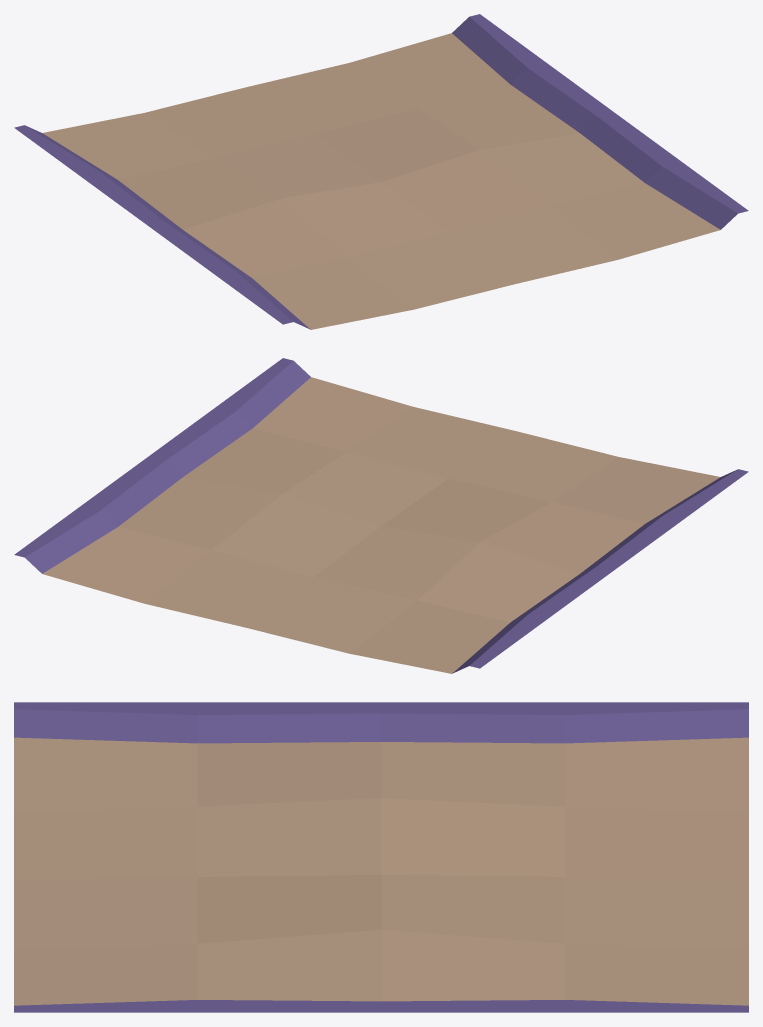
Rendered from env_camino_2x2.fbx.
3 renders of one model, top to bottom at view 1: azimuth 30°, elevation 25°; view 2: azimuth 150°, elevation 25°; view 3: azimuth 270°, elevation 25°, orthographic. The views are drawn at different scales.
Visible parts, largest first — view 1: env_camino_2x2; view 2: env_camino_2x2; view 3: env_camino_2x2.
Boxes of the visible parts, x1=… form: env_camino_2x2: x1=14, y1=14, x2=748, y2=329; env_camino_2x2: x1=14, y1=358, x2=748, y2=673; env_camino_2x2: x1=14, y1=702, x2=748, y2=1012.
Size of the model in its own units: 8 by 0.2784 by 8.
